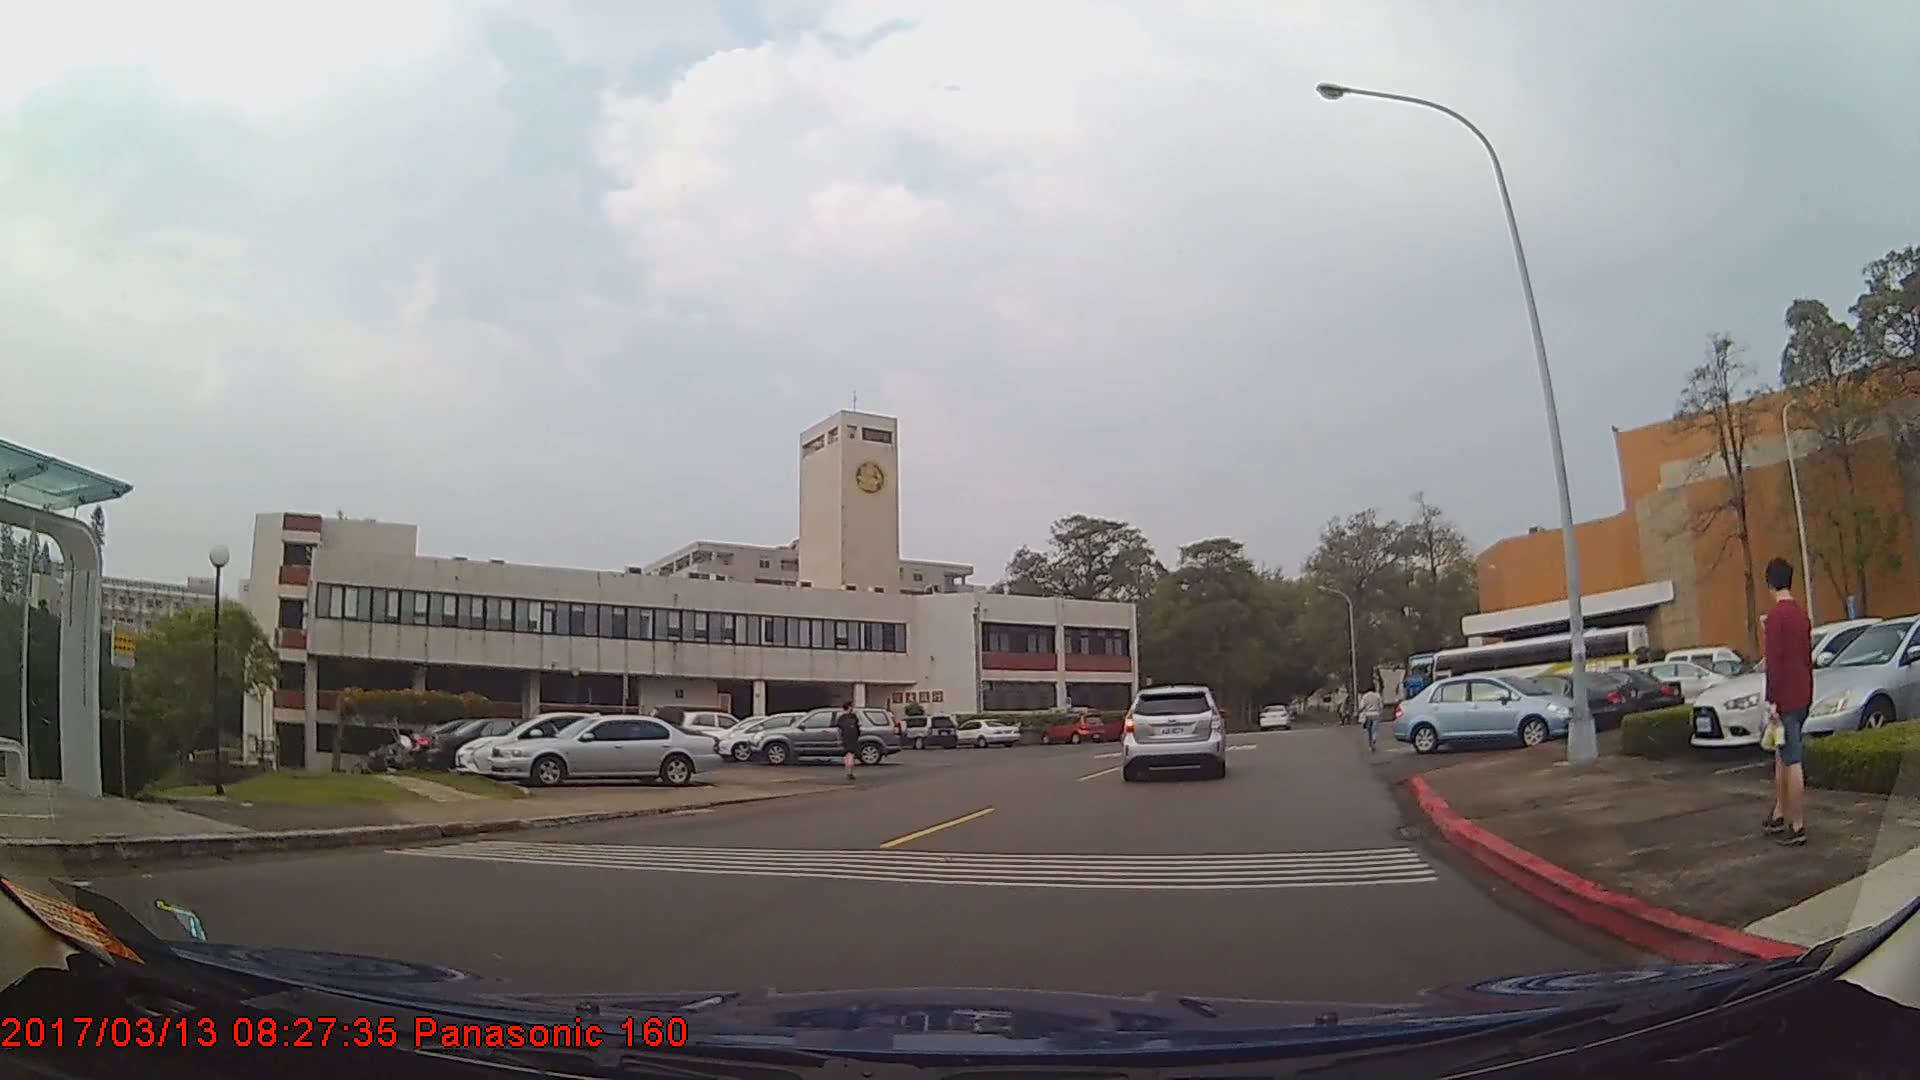pedestrian: (1754, 559, 1822, 842), (835, 700, 863, 780), (1359, 684, 1386, 754)
vehicle: (1690, 616, 1919, 747), (1764, 614, 1920, 756), (485, 713, 722, 786), (454, 706, 671, 775), (1388, 672, 1580, 751), (1451, 671, 1639, 729), (1124, 682, 1225, 782), (423, 712, 584, 771), (751, 706, 906, 765), (1534, 667, 1682, 718), (717, 710, 844, 761), (894, 714, 959, 750), (1039, 710, 1105, 744), (953, 717, 1021, 748), (1256, 702, 1288, 731)
